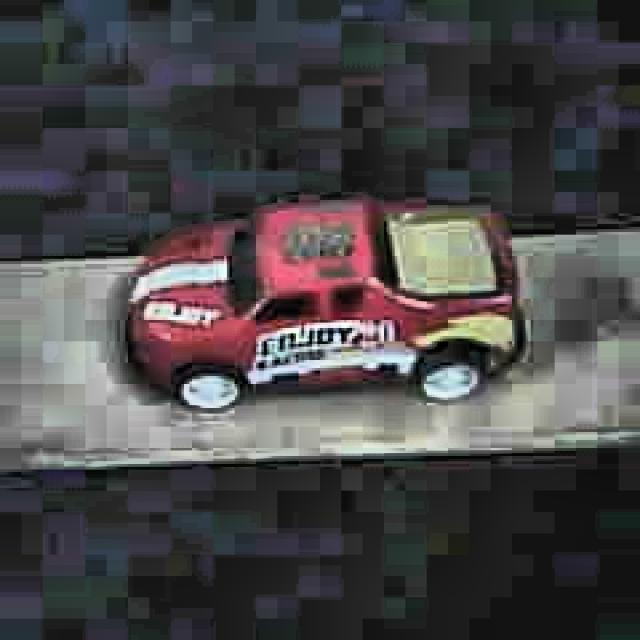car: (124, 201, 525, 414)
